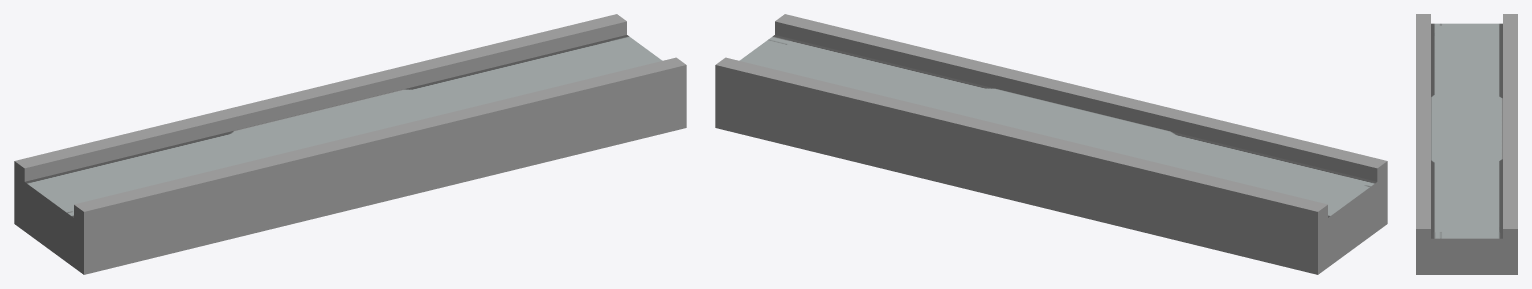
Rendered from indirect_lighting.fbx.
The picture shows the model from 3 angles, left to right: view 1: azimuth 30°, elevation 25°; view 2: azimuth 150°, elevation 25°; view 3: azimuth 270°, elevation 25°; orthographic projection. The views are drawn at different scales.
Visible parts, largest first — view 1: light_body, light; view 2: light_body, light; view 3: light, light_body.
Boxes of the visible parts, left/top/right/bottom form: light_body: left=14, top=14, right=686, bottom=274; light: left=25, top=35, right=662, bottom=217; light_body: left=715, top=14, right=1387, bottom=274; light: left=739, top=35, right=1376, bottom=217; light: left=1431, top=23, right=1502, bottom=238; light_body: left=1416, top=14, right=1517, bottom=274.
Bounding box in the file's own units: 100 × 10 × 20.
1 material, 1 textured.
